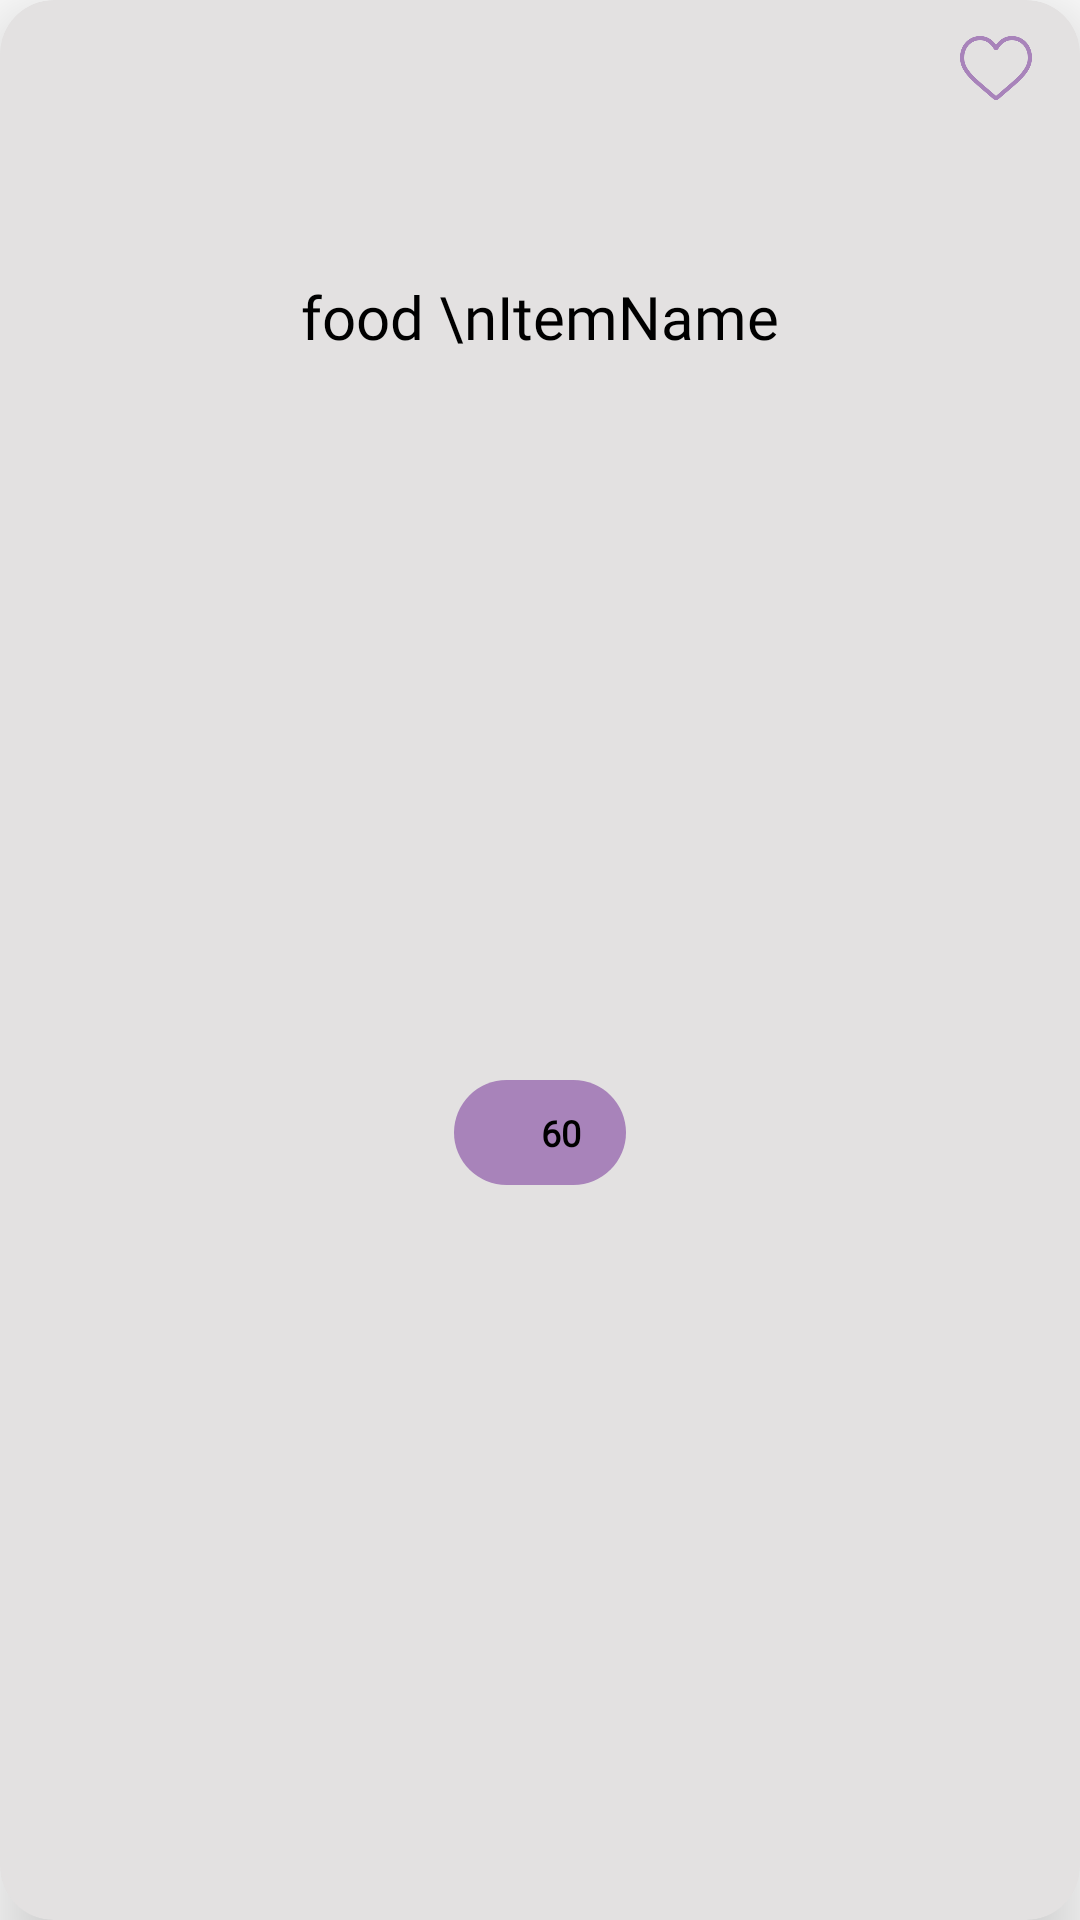

Named icons in this screenshot (1080 × 1920) and their bounding boxes, (x1,y1,x2,y2):
heart: (960,36,1032,100)
